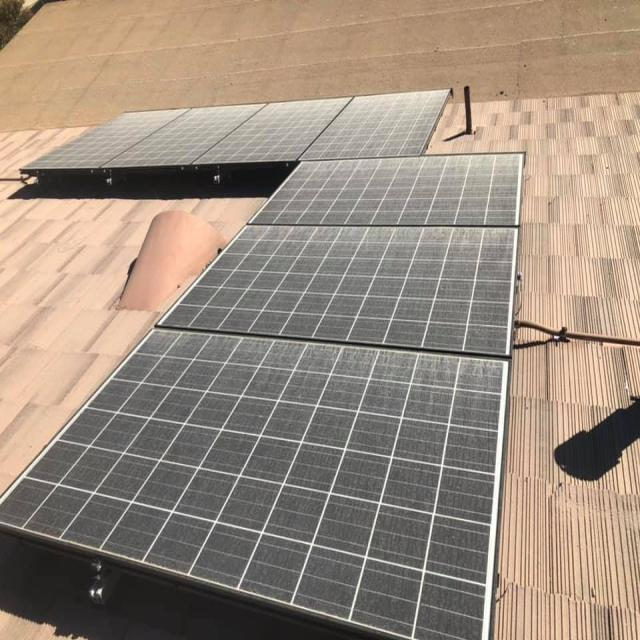dust-solar-panel: (0, 89, 525, 640)
